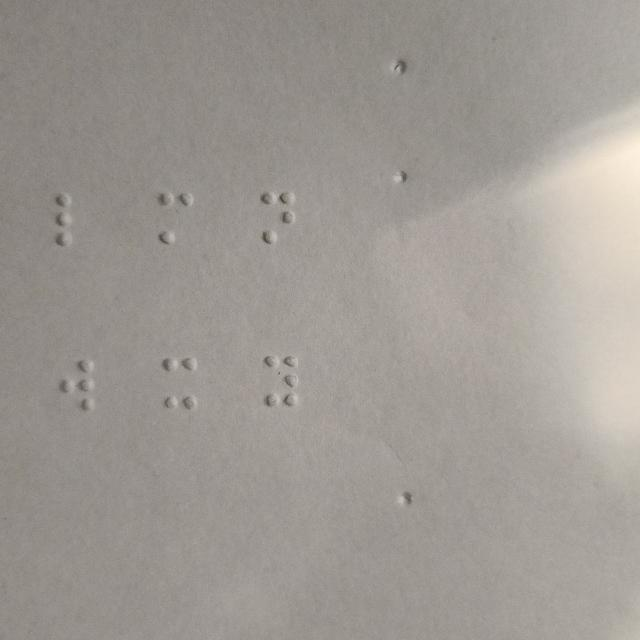letter_l: (54, 195, 87, 246)
letter_m: (157, 192, 191, 244)
letter_n: (262, 191, 295, 243)
letter_w: (61, 358, 95, 410)
letter_x: (164, 356, 197, 408)
letter_y: (265, 356, 298, 408)
